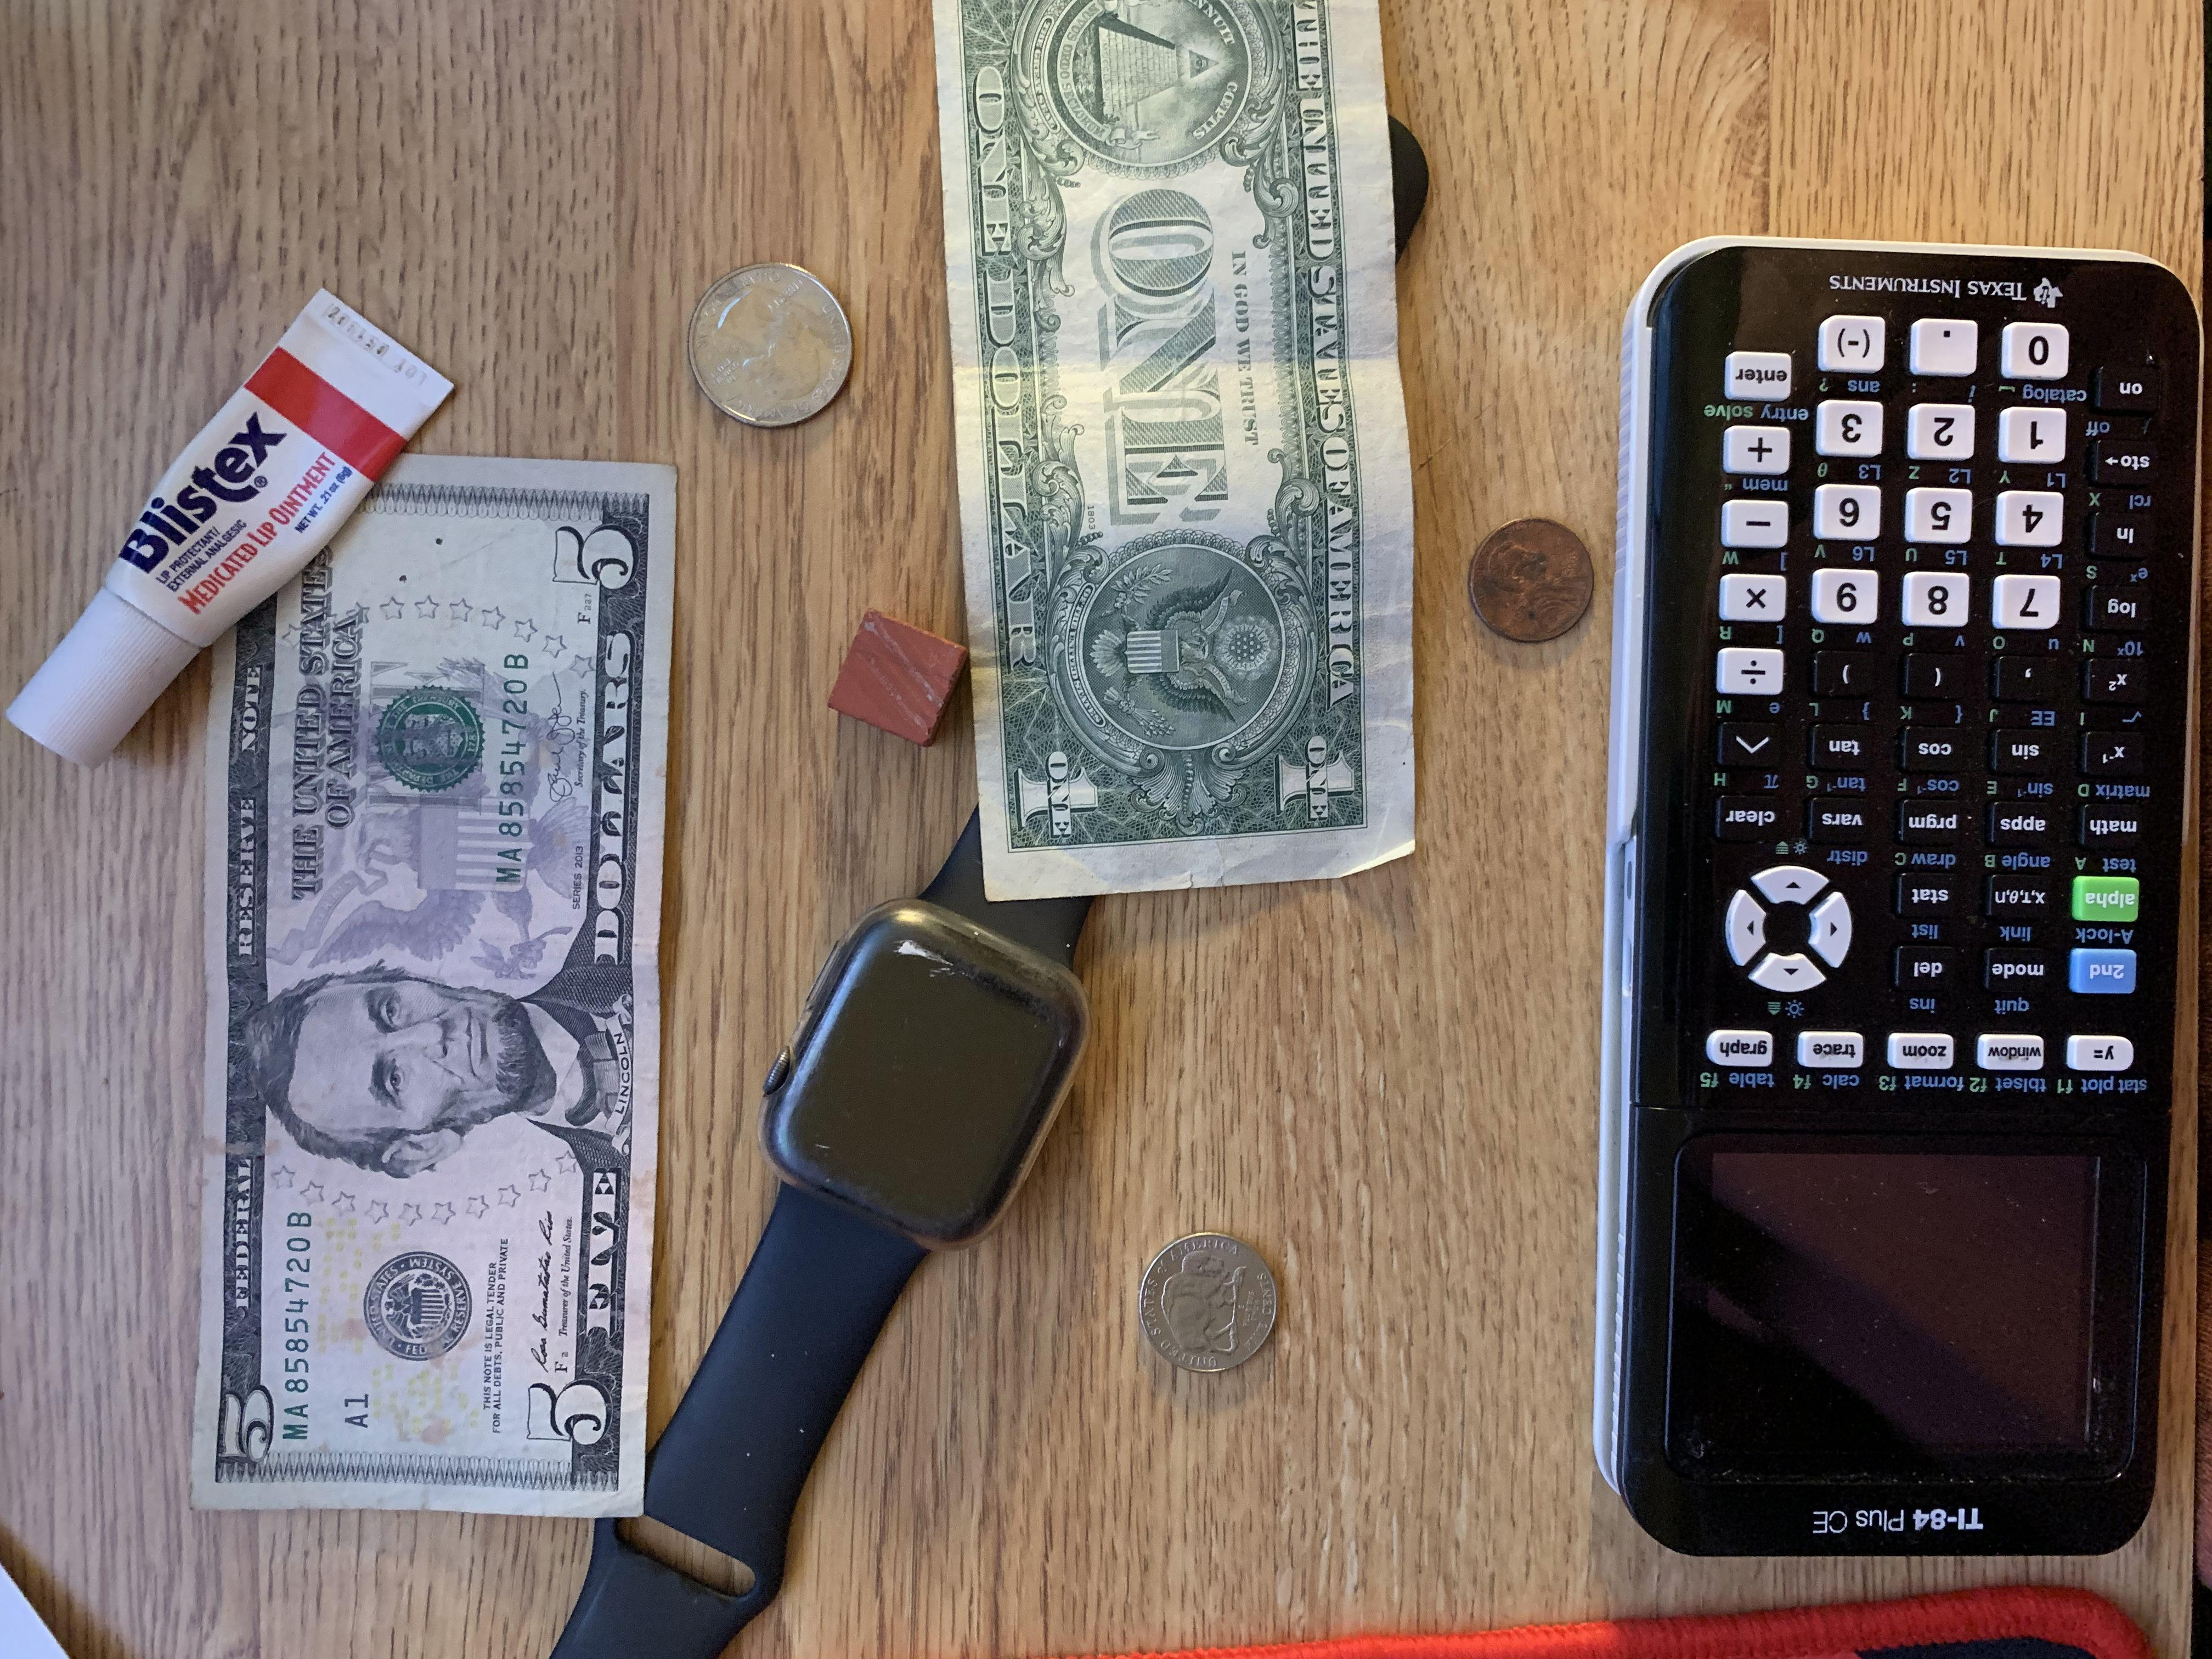FiveBill: (186, 451, 686, 1521)
Nickel: (1132, 1232, 1289, 1380)
OneBill: (920, 2, 1428, 910)
Penny: (1463, 516, 1601, 645)
Quarter: (688, 260, 853, 436)
